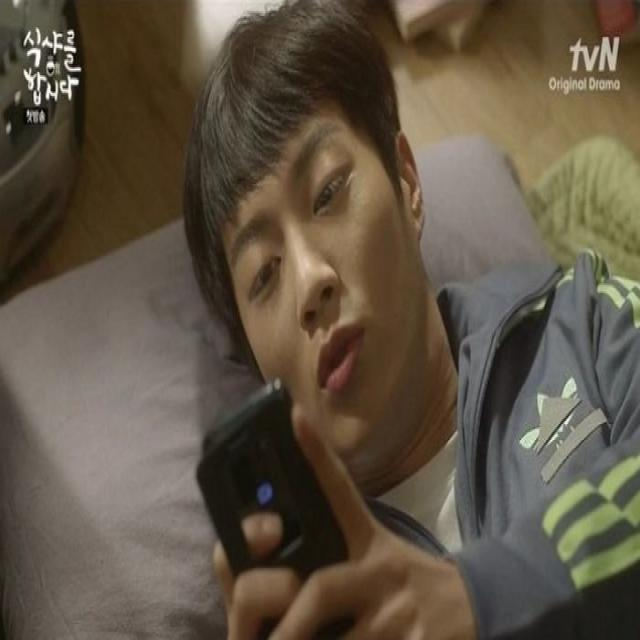Phone: (192, 383, 352, 579)
